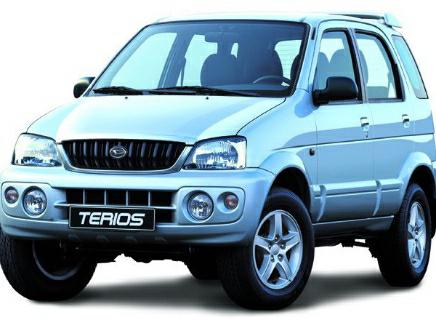丰田-特锐: (4, 4, 434, 308)
